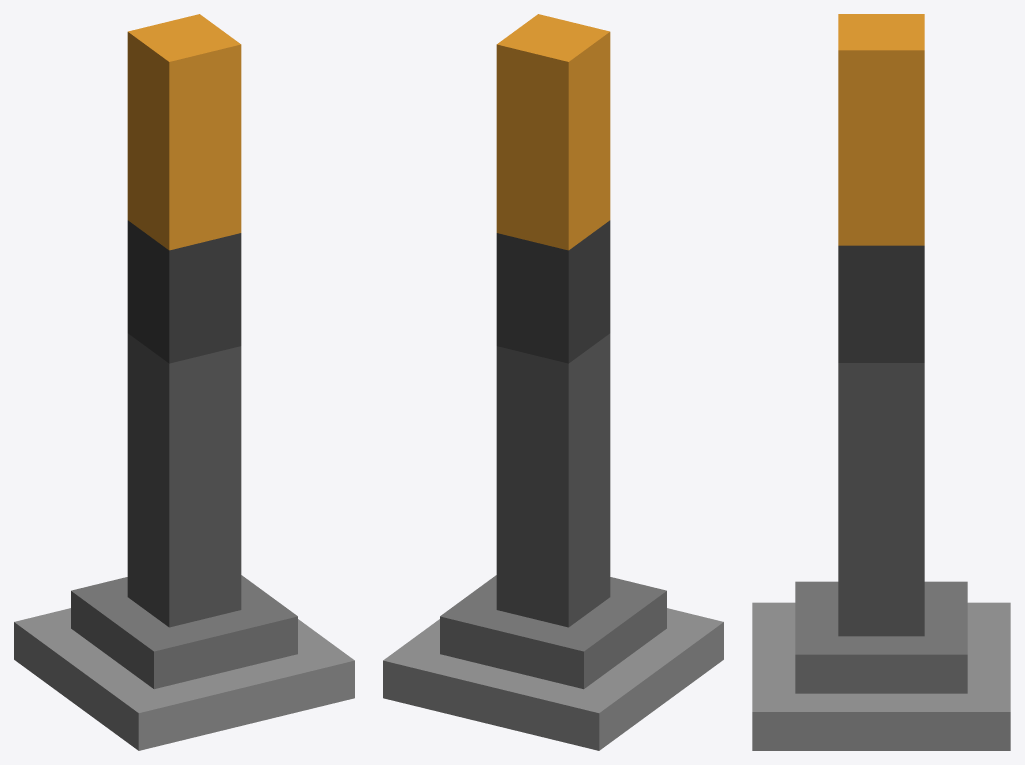
File: Lamp1.obj
The picture shows the model from 3 angles, left to right: view 1: azimuth 30°, elevation 25°; view 2: azimuth 150°, elevation 25°; view 3: azimuth 270°, elevation 25°; orthographic projection. The views are drawn at different scales.
Parts seen in each view (by area): view 1: Lamp1; view 2: Lamp1; view 3: Lamp1.
Boxes of the visible parts, x1,y1,x2,y2 form: Lamp1: (14,14,354,750); Lamp1: (383,14,723,750); Lamp1: (752,14,1010,750).
Size of the model in its own units: 6 by 17 by 6.
Materials: 1 (1 with a texture image).
